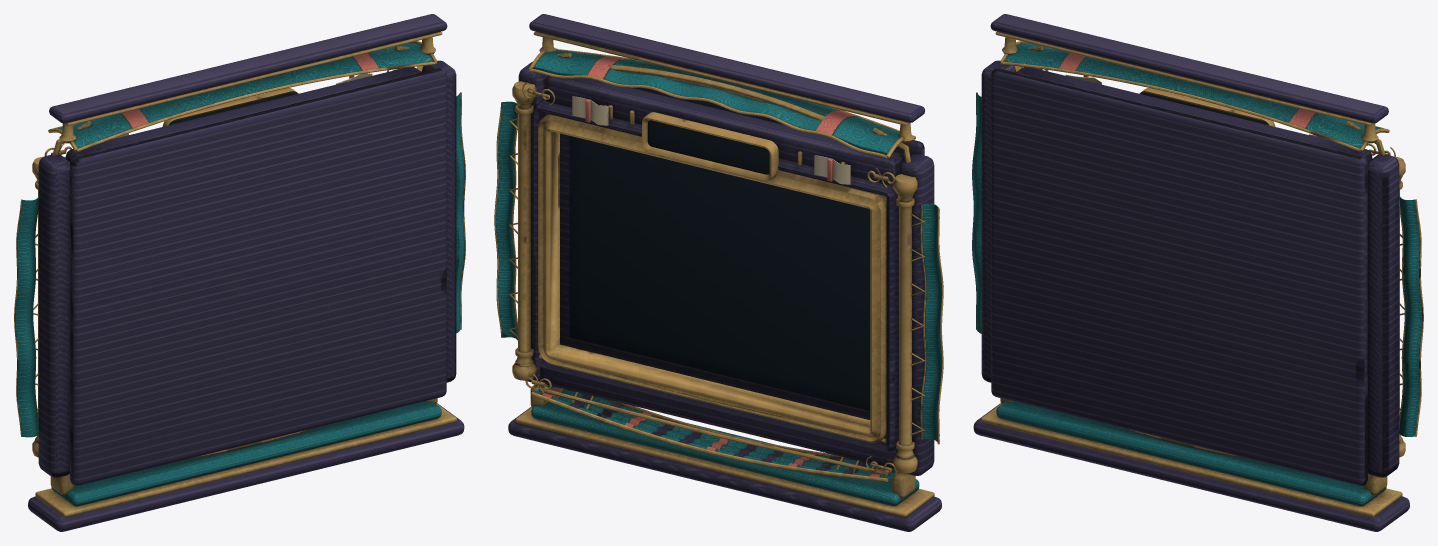
3 renders of one model, left to right at view 1: azimuth 30°, elevation 25°; view 2: azimuth 150°, elevation 25°; view 3: azimuth 330°, elevation 25°, orthographic.
Parts seen in each view (by area): view 1: Violet_woven_depth, Teal_sailcloth_weave, Weathered_satin_brass, Coral_woven_route_bands; view 2: Even_dark_display_enamel, Weathered_satin_brass, Violet_woven_depth, Teal_sailcloth_weave, Coral_woven_route_bands, Warm_ivory_folded_charts; view 3: Violet_woven_depth, Teal_sailcloth_weave, Weathered_satin_brass, Coral_woven_route_bands.
Boxes of the visible parts, x1,y1,x2,y2 form: Violet_woven_depth: (28,14,464,531); Teal_sailcloth_weave: (15,43,464,506); Weathered_satin_brass: (14,31,465,517); Coral_woven_route_bands: (121,53,378,128); Even_dark_display_enamel: (569,120,870,410); Weathered_satin_brass: (494,31,943,517); Violet_woven_depth: (508,14,941,531); Teal_sailcloth_weave: (496,50,941,505); Coral_woven_route_bands: (542,56,885,477); Warm_ivory_folded_charts: (572,96,850,184); Violet_woven_depth: (973,14,1409,531); Teal_sailcloth_weave: (972,43,1421,506); Weathered_satin_brass: (972,31,1423,517); Coral_woven_route_bands: (1059,53,1316,128).
Bounding box in the file's own units: 11.46 × 10 × 1.56.
Materials: 6 (6 with a texture image).
